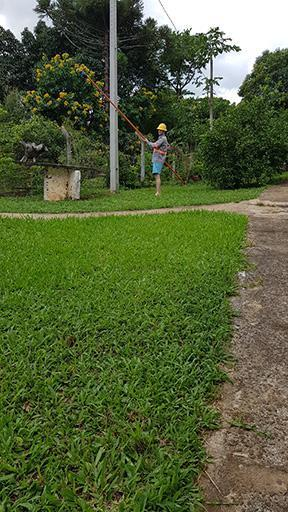helmet: (155, 122, 167, 137)
